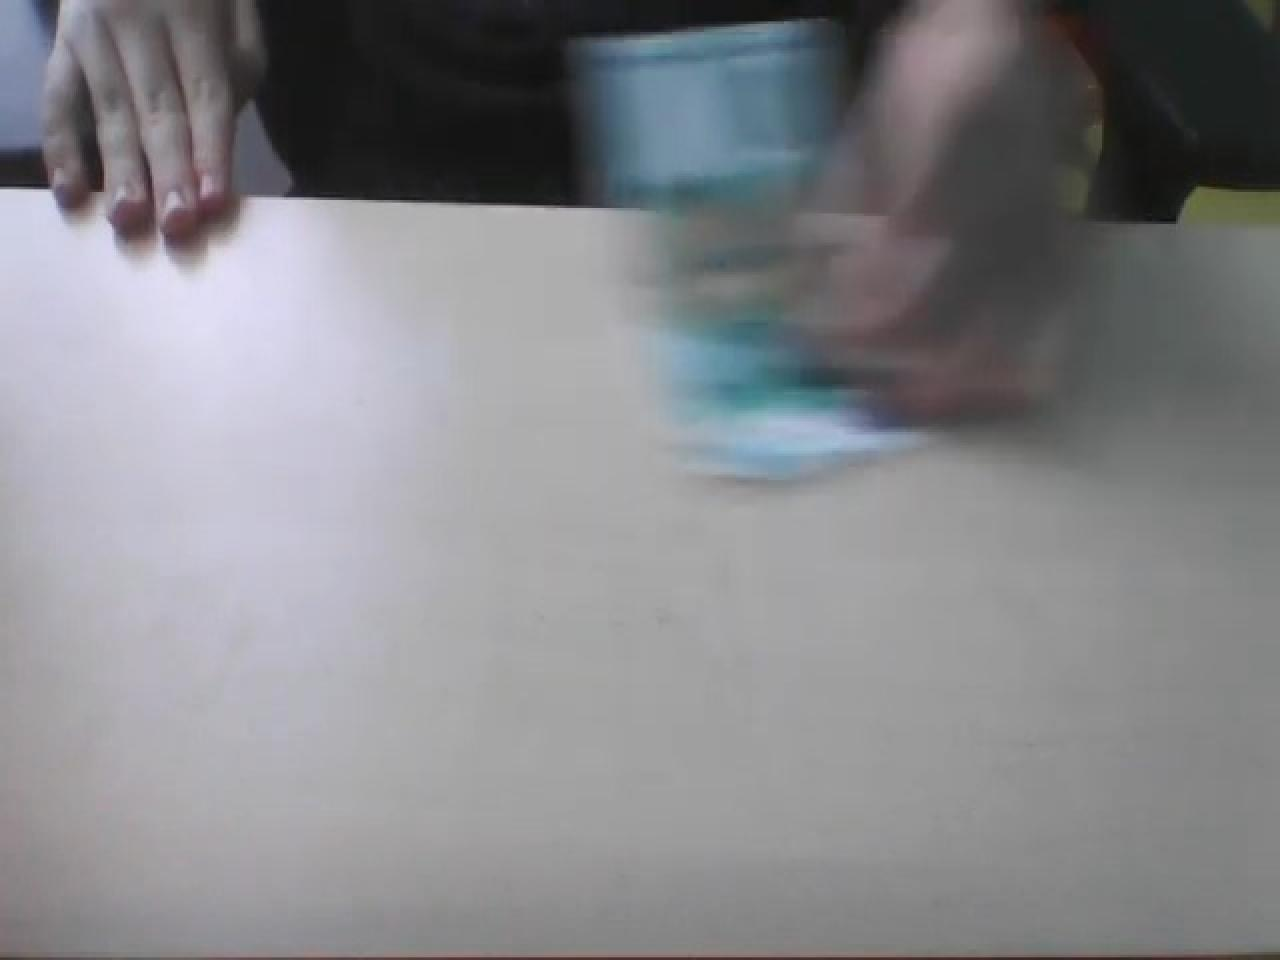100leva: (564, 13, 936, 485)
